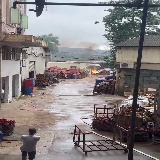fire: (92, 68, 99, 73)
